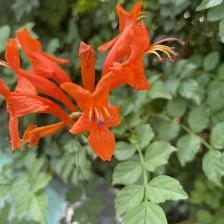honeysuckle: (65, 75, 130, 164)
